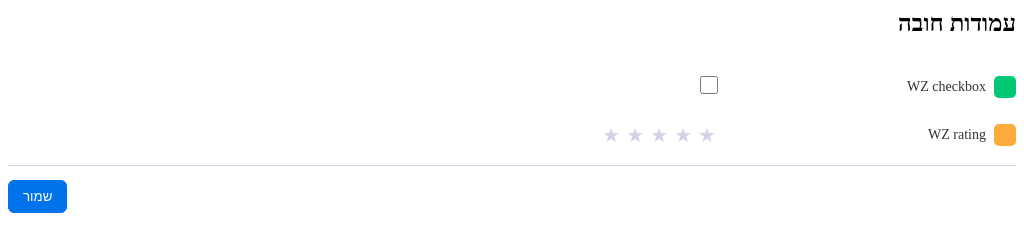
RequiredFieldsForm blocking › reports every unfilled field at once rather than one at a time
The width and height of the screenshot is (1024, 231).
What coordinates should you click on to do the following:
click the button "שמור"
I would click on:
 (38, 196)
Its box is [8, 180, 68, 213].
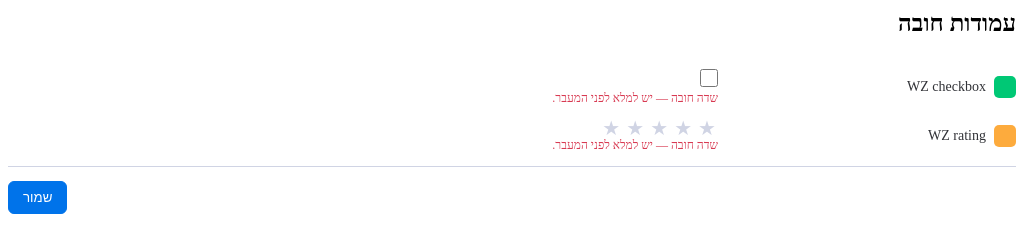
Expected: the text "שדה חובה — יש למלא לפני המעבר." is shown 2 times, [552, 91, 718, 105]; [552, 138, 718, 152]
